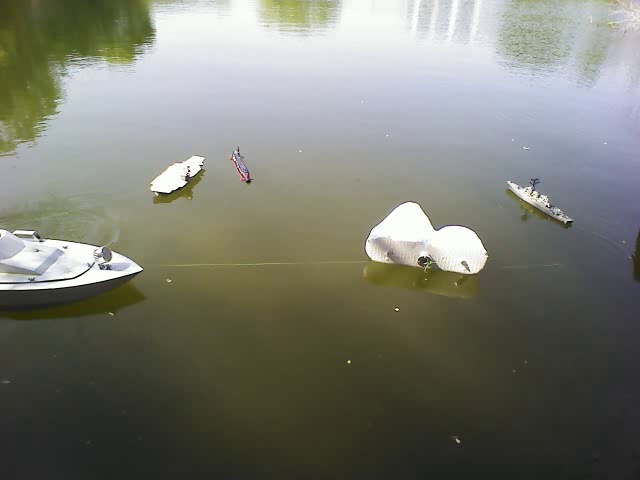aircraft_carrier: (147, 148, 208, 197)
boat: (1, 225, 143, 301)
iceberg: (365, 199, 493, 281)
submarine: (229, 144, 254, 182)
warship: (504, 177, 579, 228)
